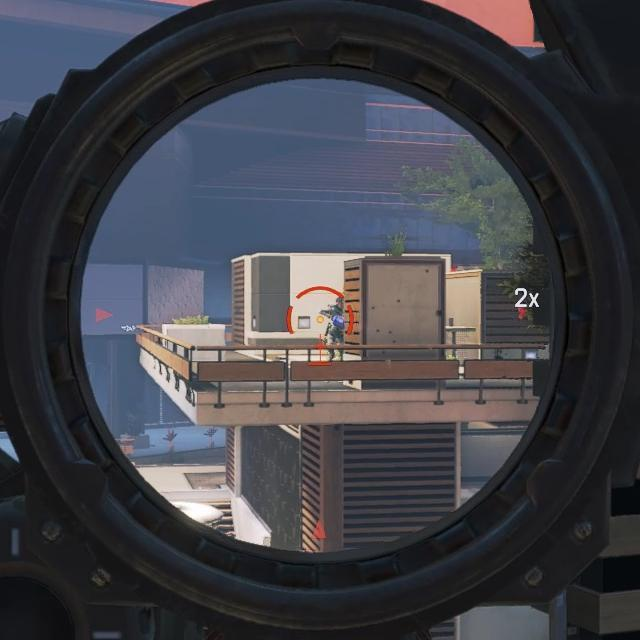avatar: (318, 295, 347, 362)
